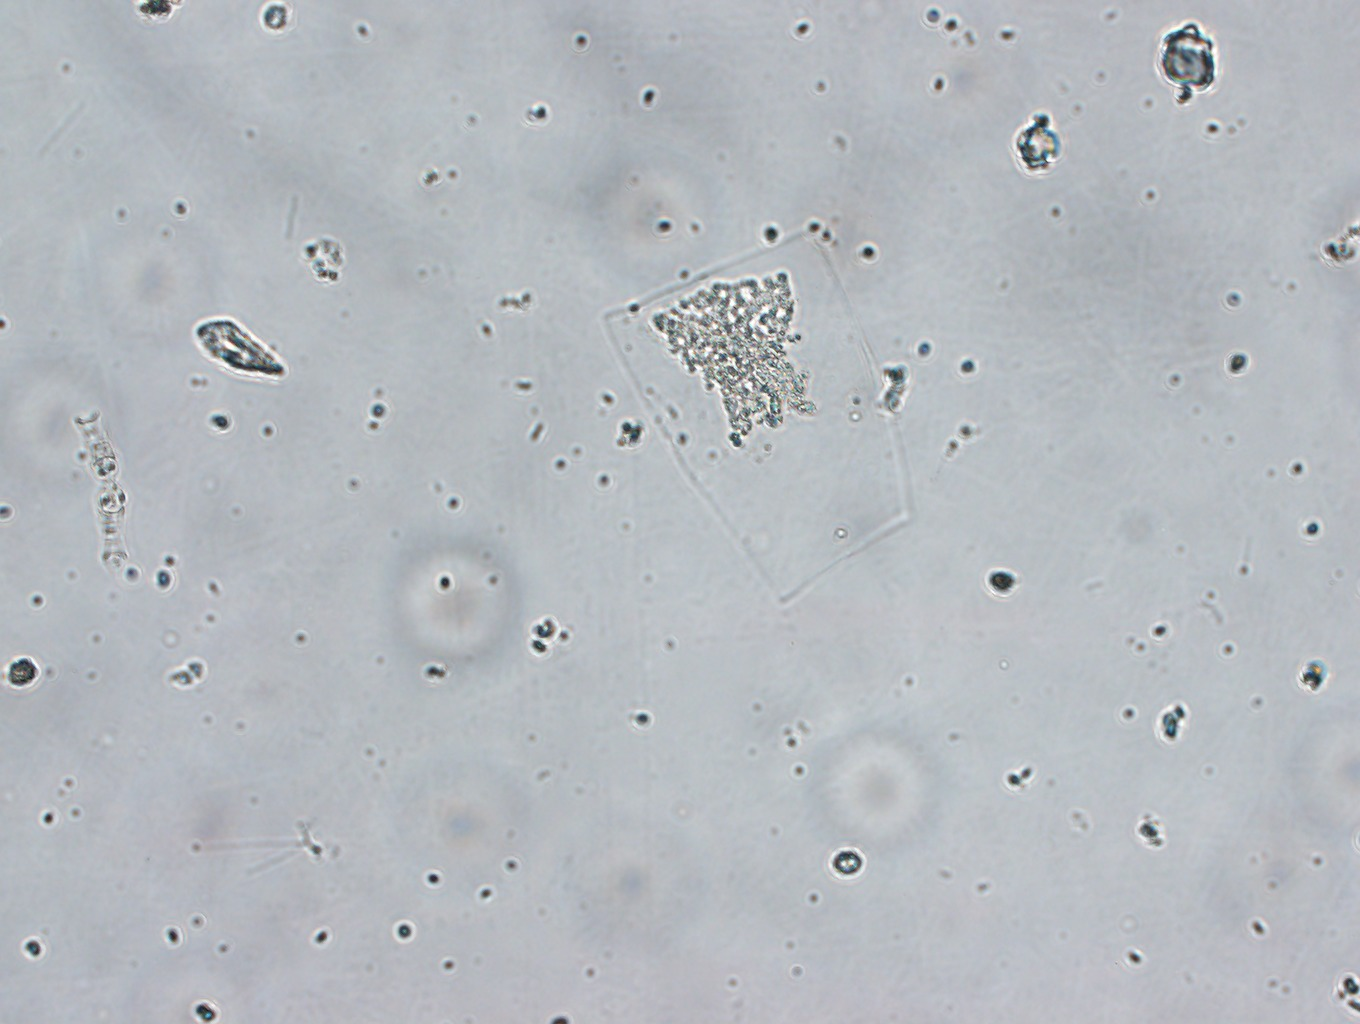helicotheca: (584, 224, 924, 608)
